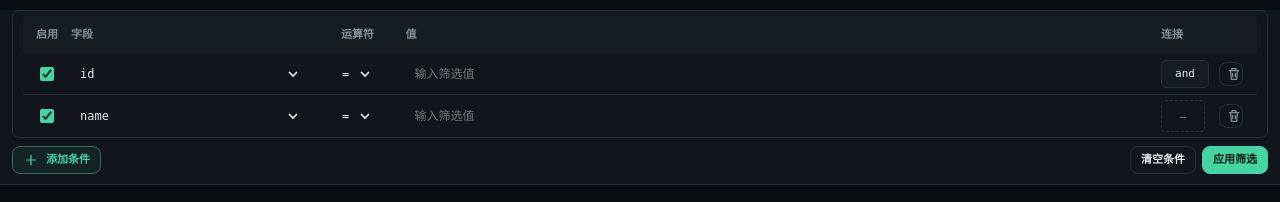
Scenario: allows switching join operator between rows
Click the button with aria-label "Join with next: and": (1185, 74) left=1161, top=60, right=1209, bottom=88
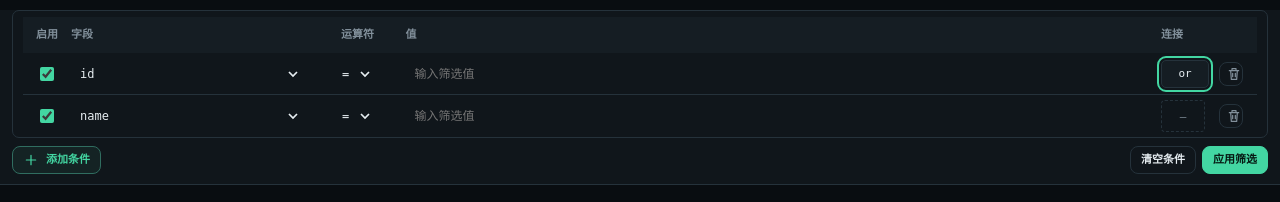
Result: the button with aria-label "Join with next: or" reads "or" at left=1161, top=60, right=1209, bottom=88
